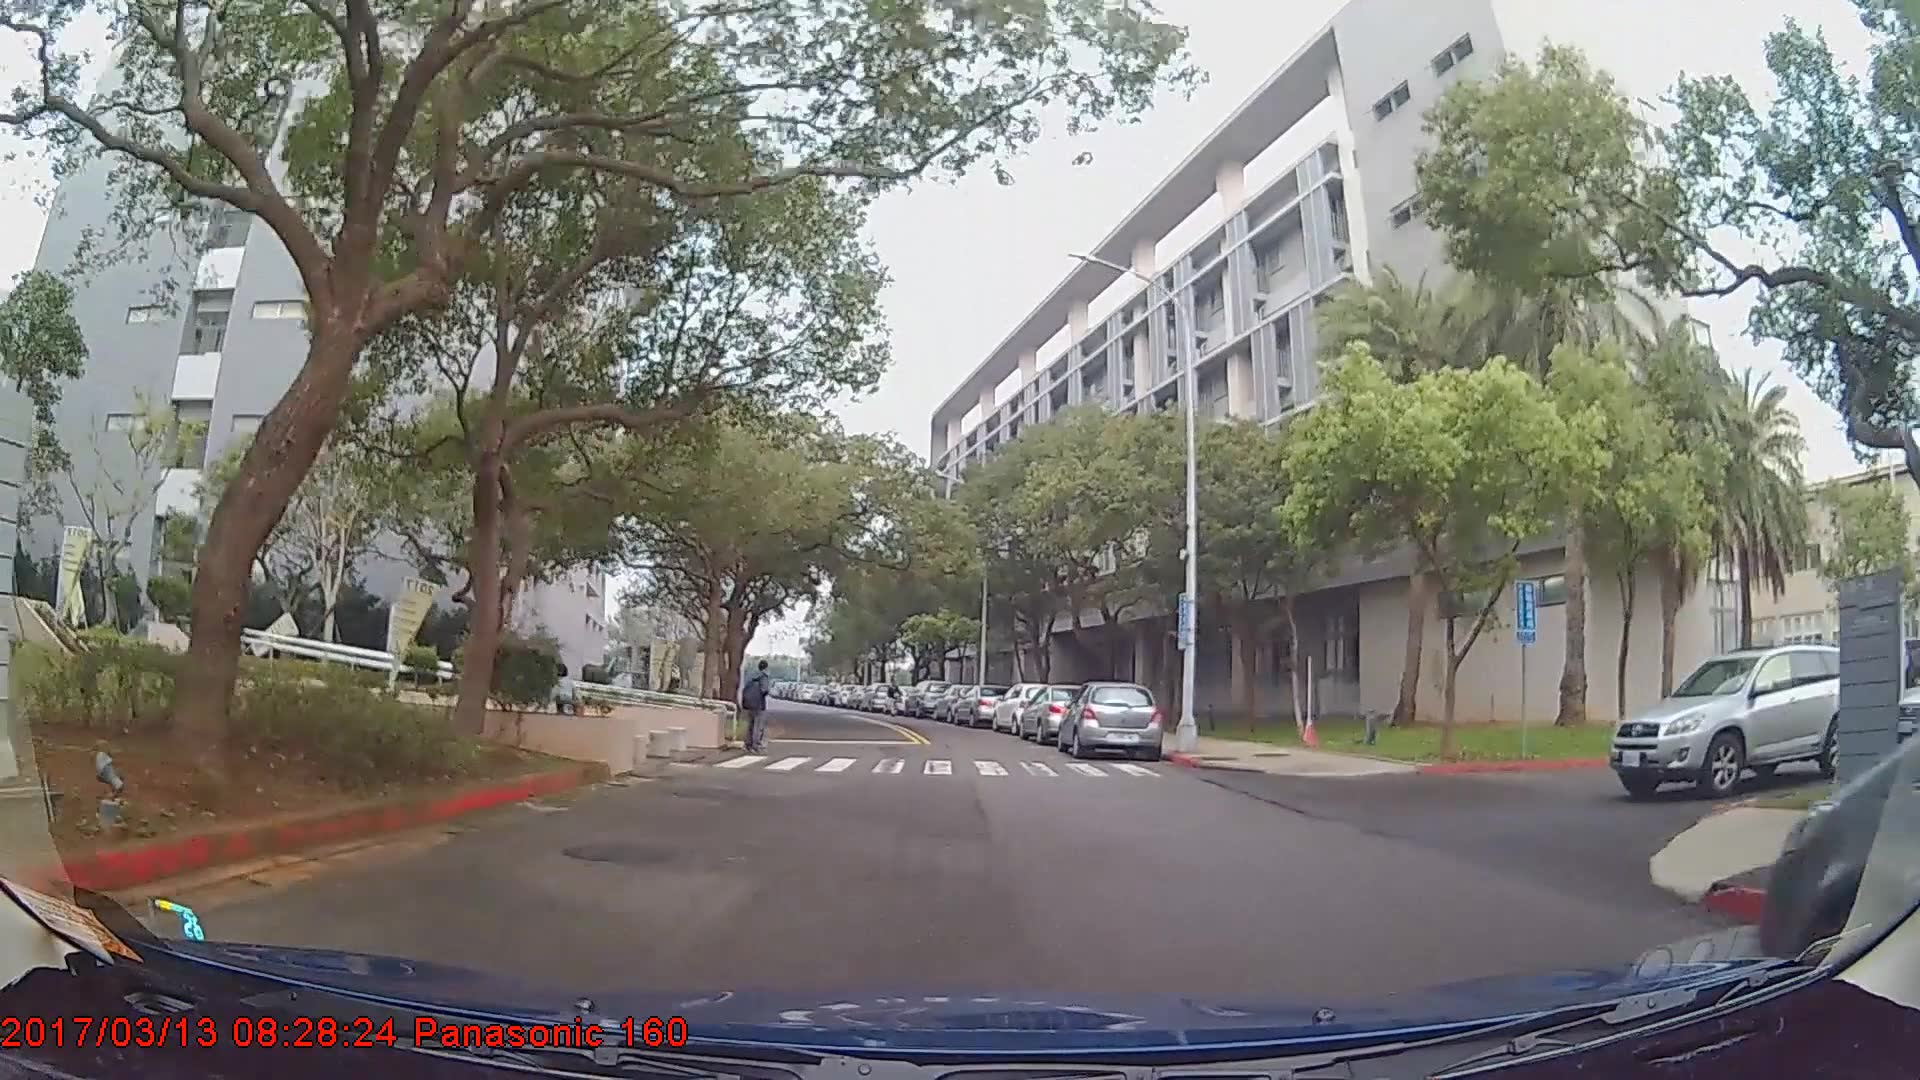pedestrian: (725, 651, 784, 756), (530, 659, 591, 756)
vehicle: (1610, 642, 1864, 801), (1058, 678, 1161, 760), (1015, 680, 1110, 744), (988, 678, 1064, 733), (953, 682, 1008, 724), (904, 677, 949, 715)
